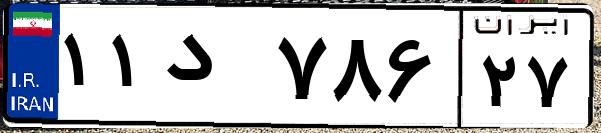1: (57, 26, 110, 100), (110, 28, 158, 98)
2: (475, 38, 525, 113)
6: (385, 28, 445, 110)
7: (270, 28, 330, 110), (525, 38, 570, 115)
8: (330, 28, 385, 110)
د: (158, 20, 270, 120)
